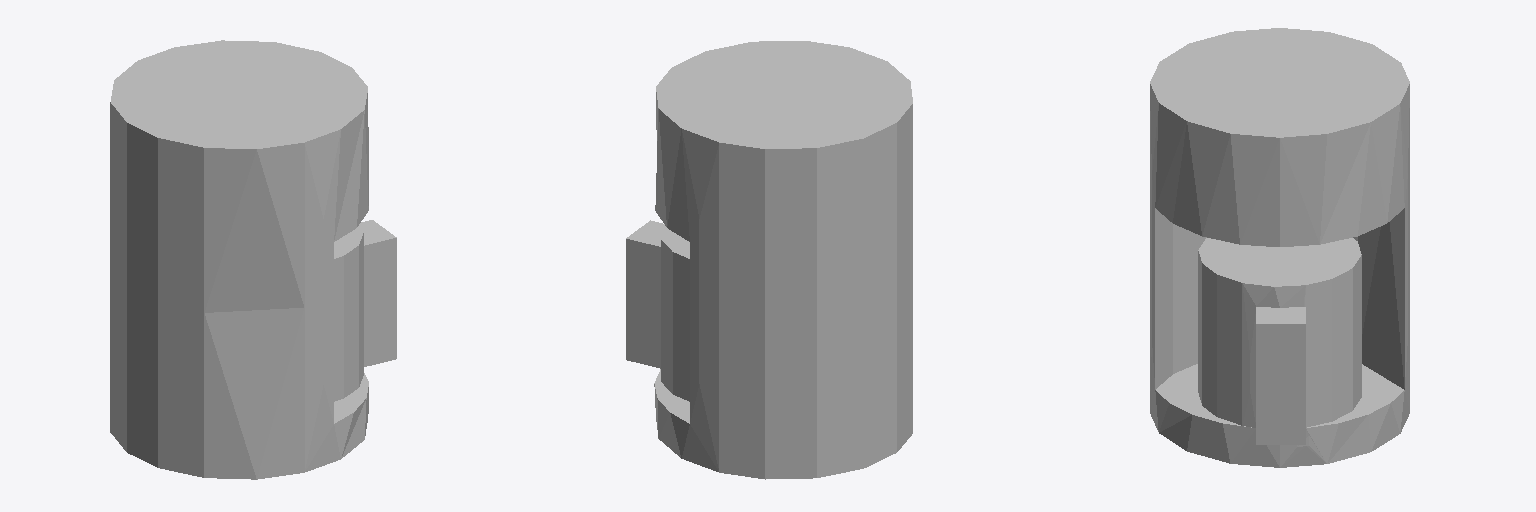
Rendered from Coffee.obj.
3 renders of one model, left to right at view 1: azimuth 30°, elevation 25°; view 2: azimuth 150°, elevation 25°; view 3: azimuth 270°, elevation 25°, orthographic.
Bounding box in the file's own units: 0.5735 × 0.7 × 0.5.